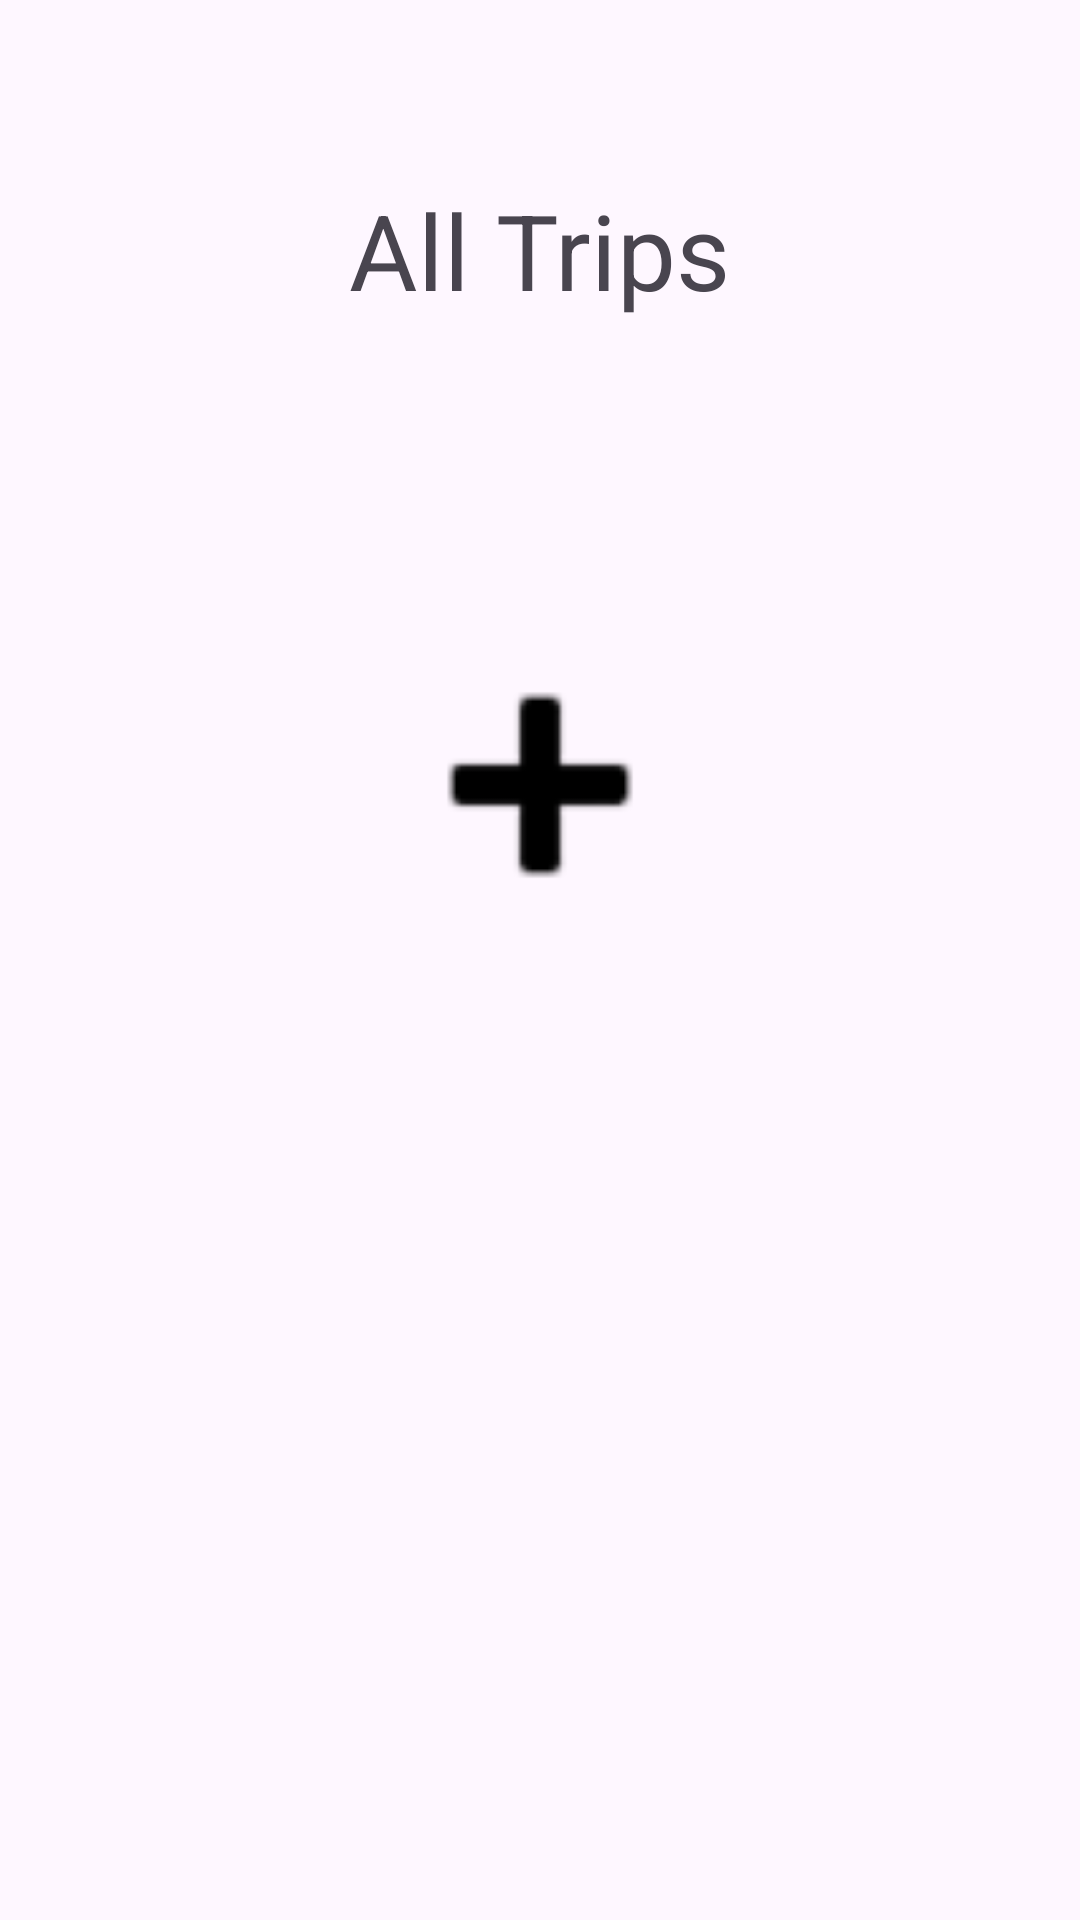

Icon bounding boxes for this 1080 × 1920 phone screenshot, format bbox=(x1, y1, x2, y2):
add: bbox=(448, 693, 632, 877)
